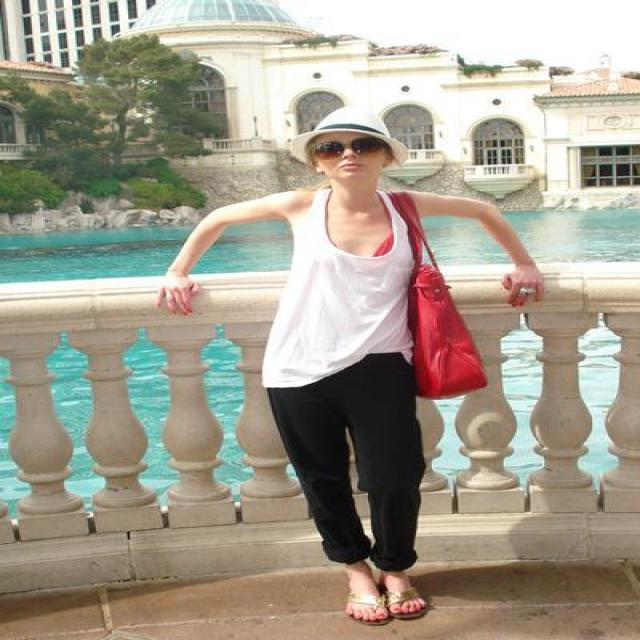bag: (374, 192, 486, 396)
hat: (272, 98, 389, 161)
pants: (267, 346, 426, 564)
shirt: (262, 205, 413, 386)
shoe: (346, 586, 414, 618)
sunglass: (326, 125, 392, 158)
